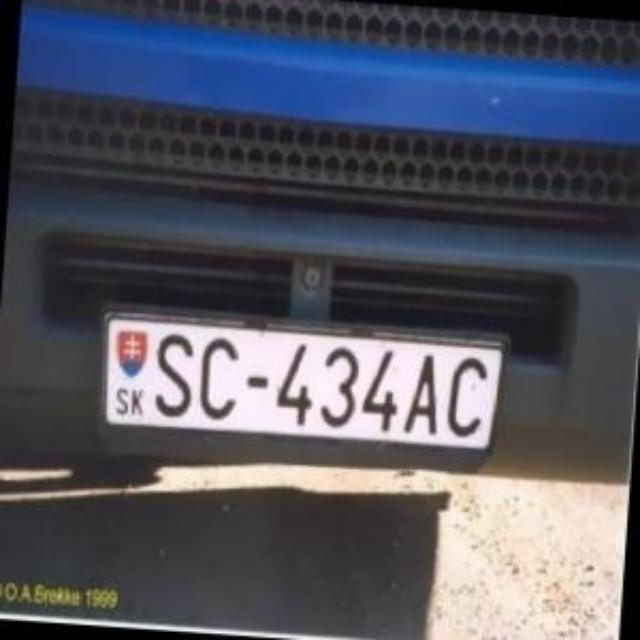License Plate: (108, 319, 490, 455)
